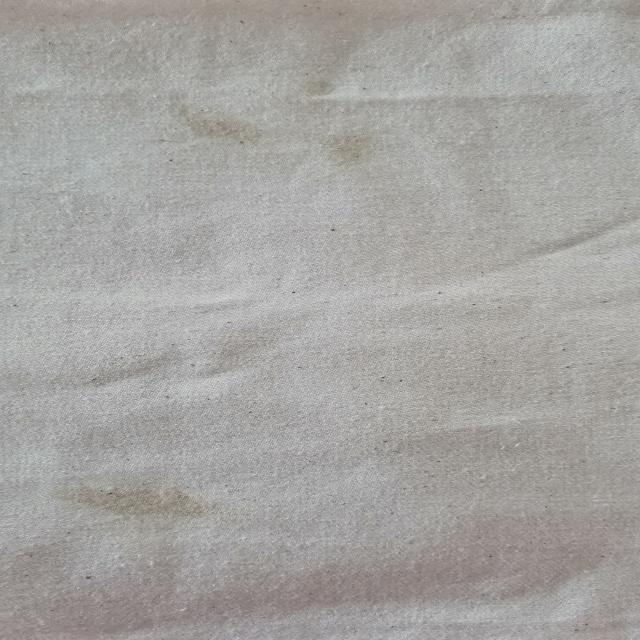taaaches: (41, 470, 229, 530), (168, 96, 280, 160), (318, 122, 403, 179), (290, 82, 342, 116)
